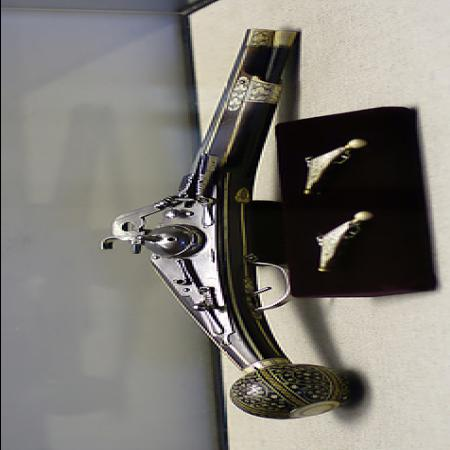Pistol: (91, 28, 361, 417)
